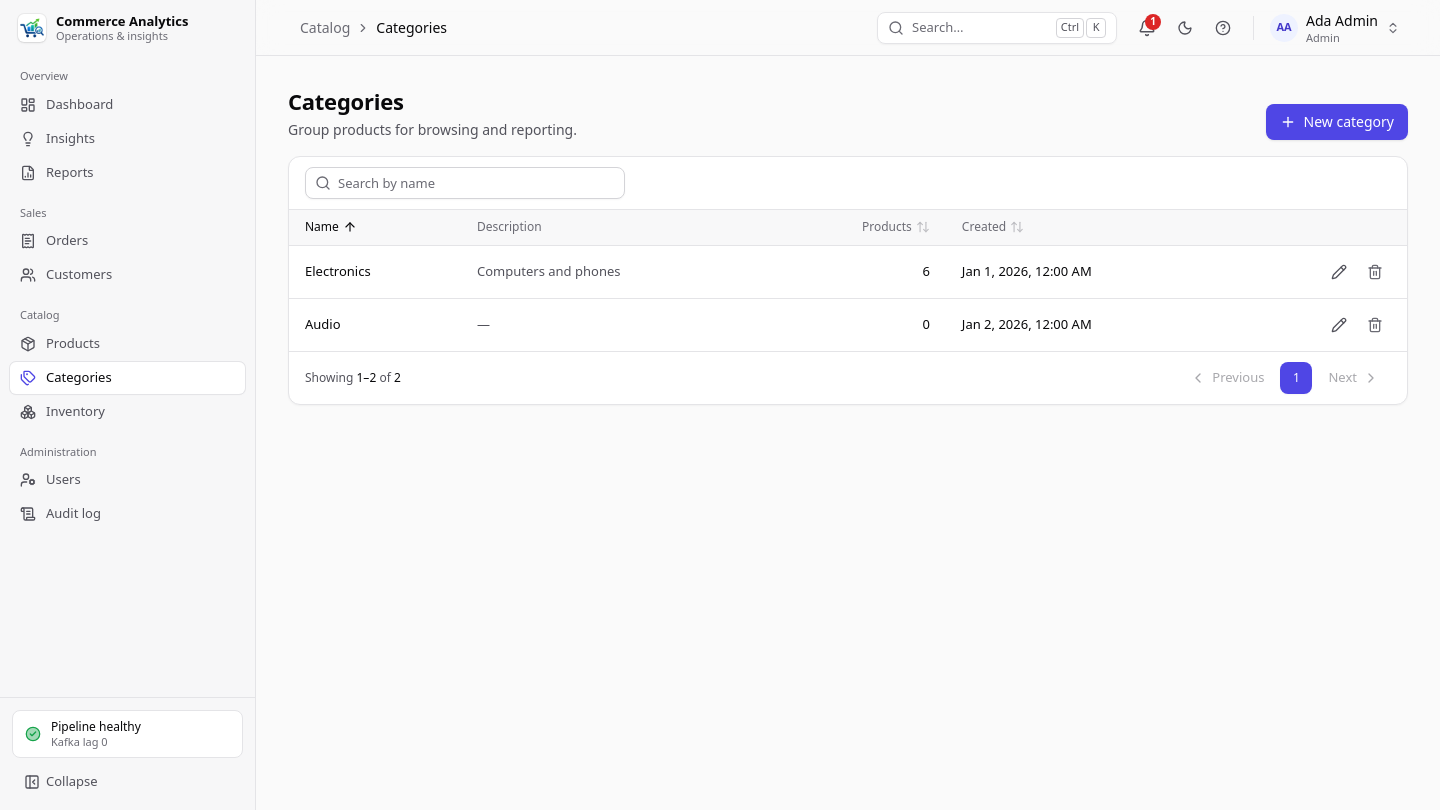
categories and customers › blocks deleting a category that still has products, with the API reason
The image size is (1440, 810).
Click the button named "Delete Electronics" at coordinates (1375, 272), box x1=1359 y1=256 x2=1391 y2=288
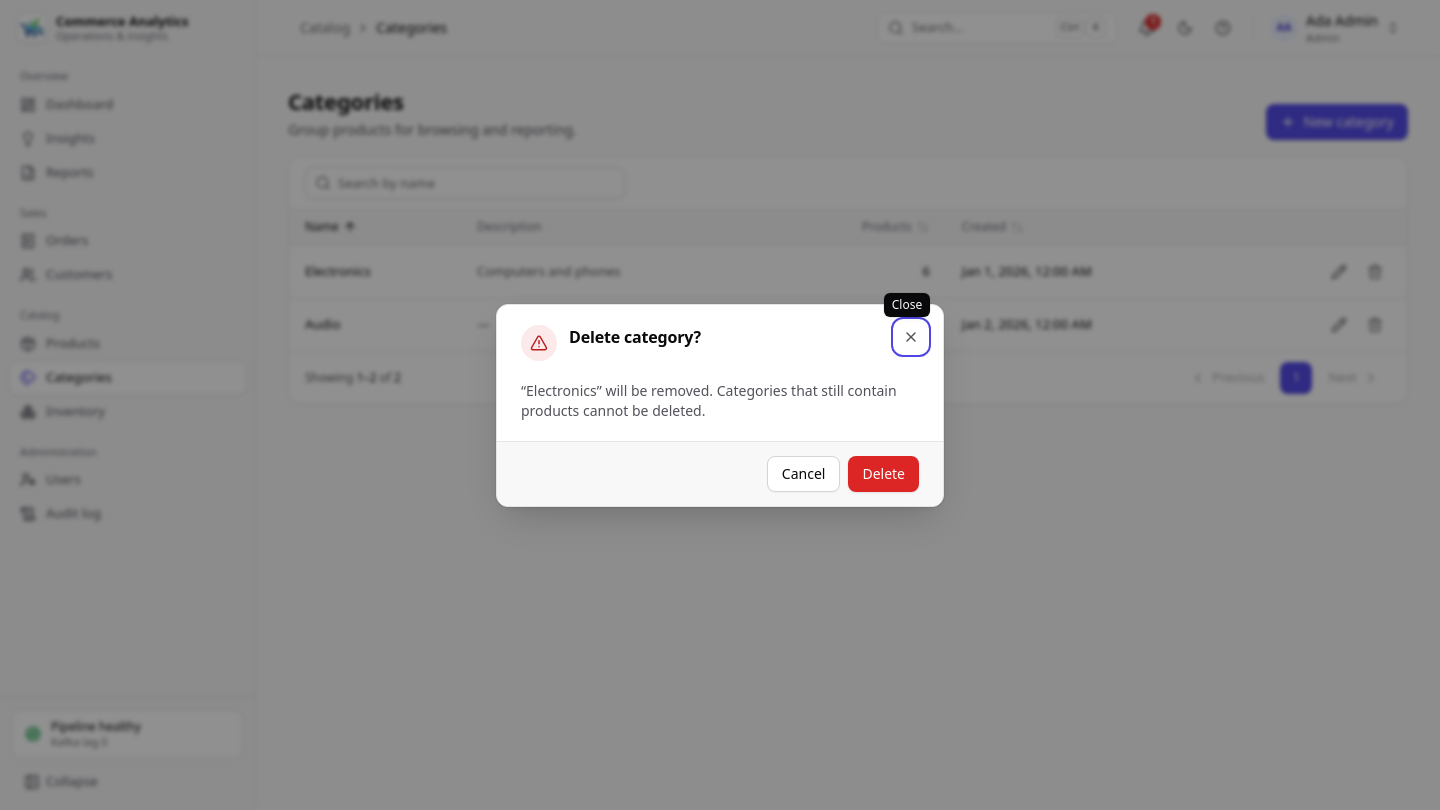
Click the button "Delete" at coordinates (884, 474), box x1=848 y1=456 x2=919 y2=492
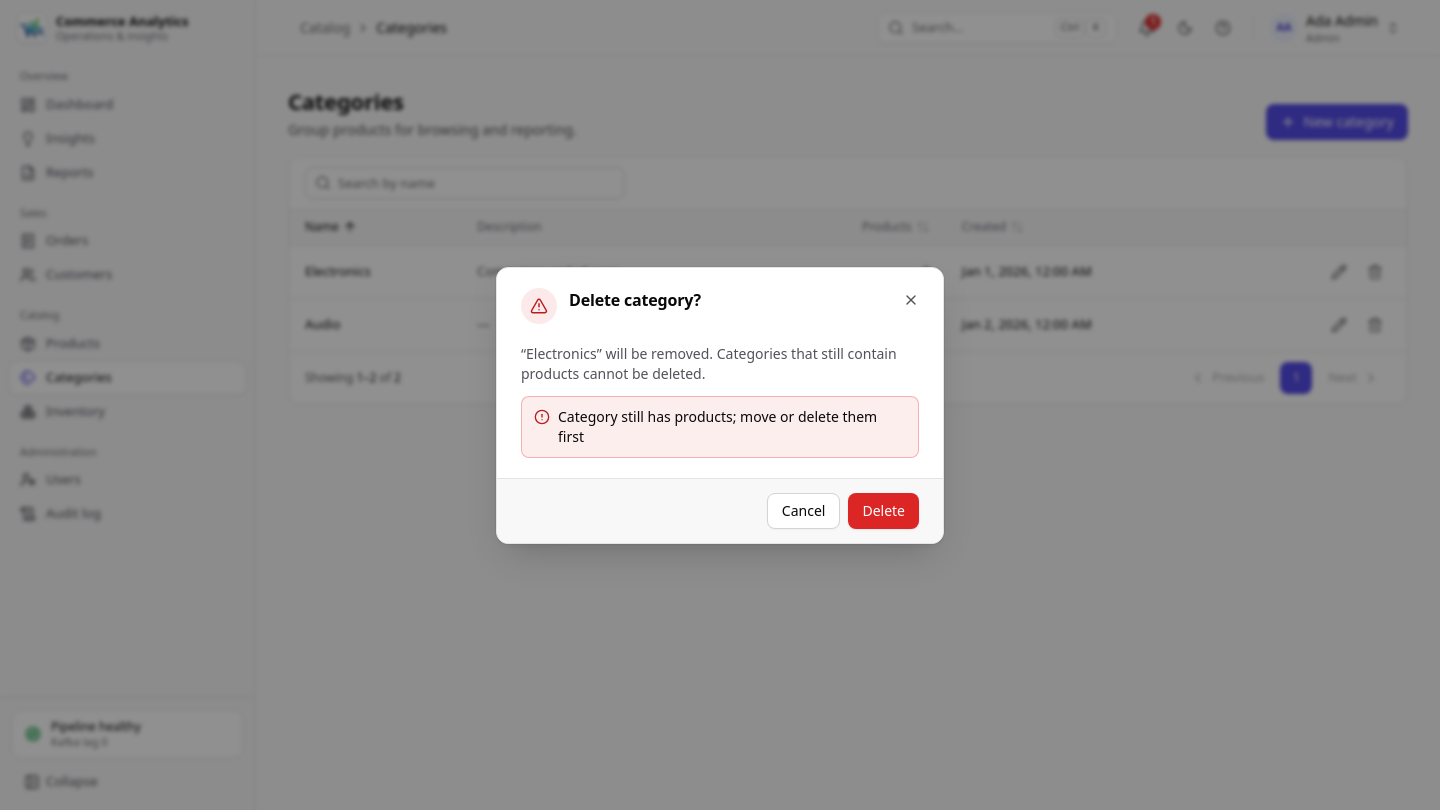
Expected: the message shows "still has products", x1=558 y1=406 x2=877 y2=446
